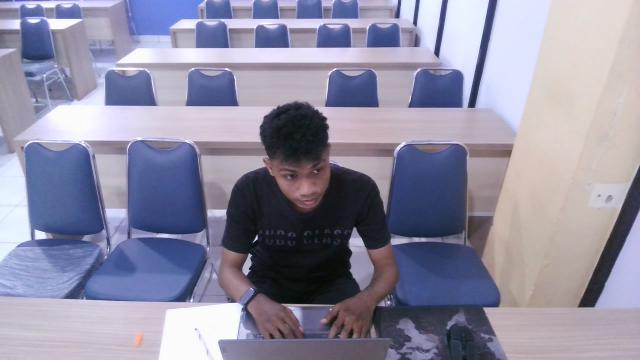Looking_Around: (216, 94, 392, 293)
